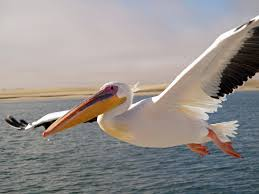pelican: (4, 15, 258, 159)
